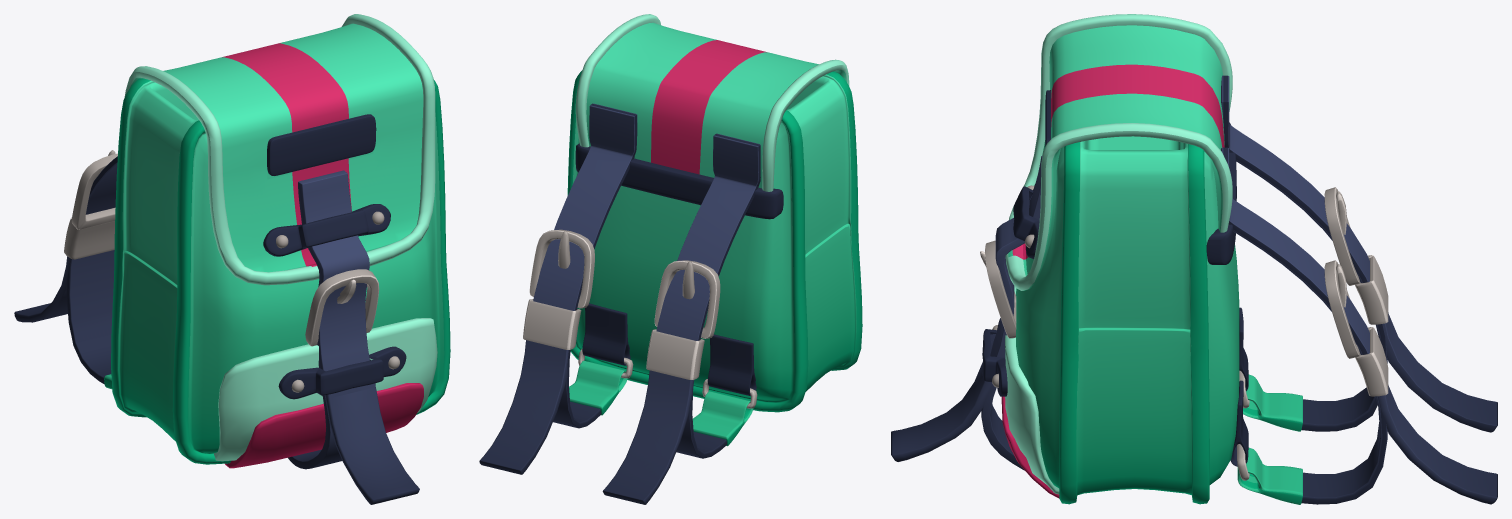
Rendered from SM_BackPack_40.fbx.
3 views of the same model, side by side, from view 1: azimuth 30°, elevation 25°; view 2: azimuth 150°, elevation 25°; view 3: azimuth 270°, elevation 25° (orthographic). The views are drawn at different scales.
Visible parts, largest first — view 1: SM_BackPack_40; view 2: SM_BackPack_40; view 3: SM_BackPack_40.
Boxes of the visible parts, x1,y1,x2,y2 form: SM_BackPack_40: (14,14,450,504); SM_BackPack_40: (479,14,862,504); SM_BackPack_40: (891,14,1497,504).
Size of the model in its own units: 92.87 by 124 by 171.
